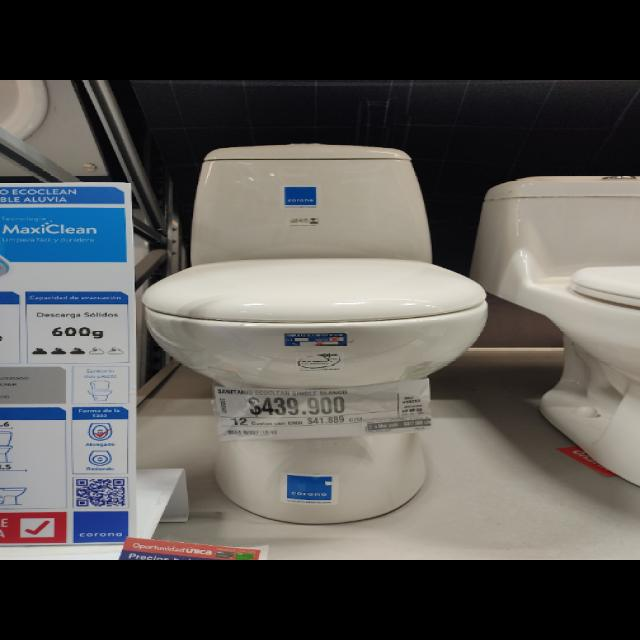toilet: (140, 142, 488, 524), (468, 174, 638, 486)
